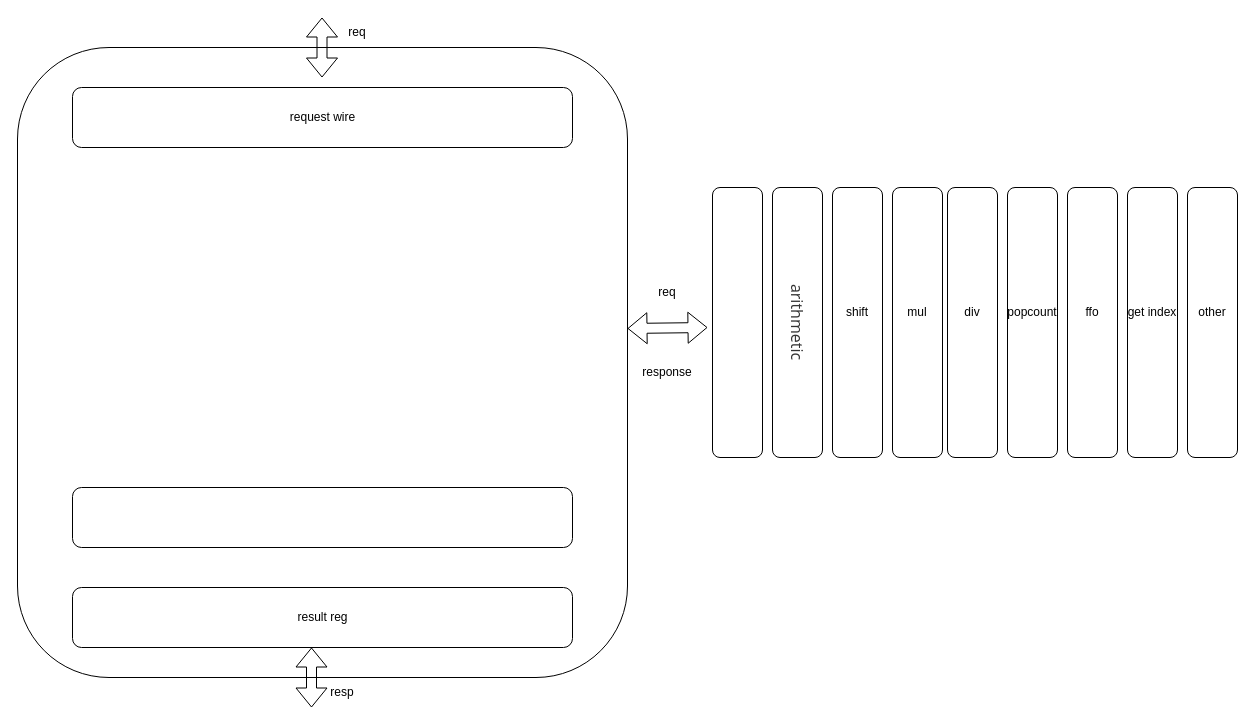
Some shapes in this 1260 by 724 pixel diagram are drawn without their labels. Each missing label, with the centre of its shape:
"logic" goes at pixel 737 322.
"result select" goes at pixel 322 517.
